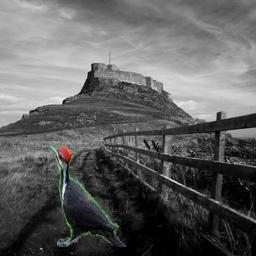Woodpecker: (48, 144, 127, 247)
